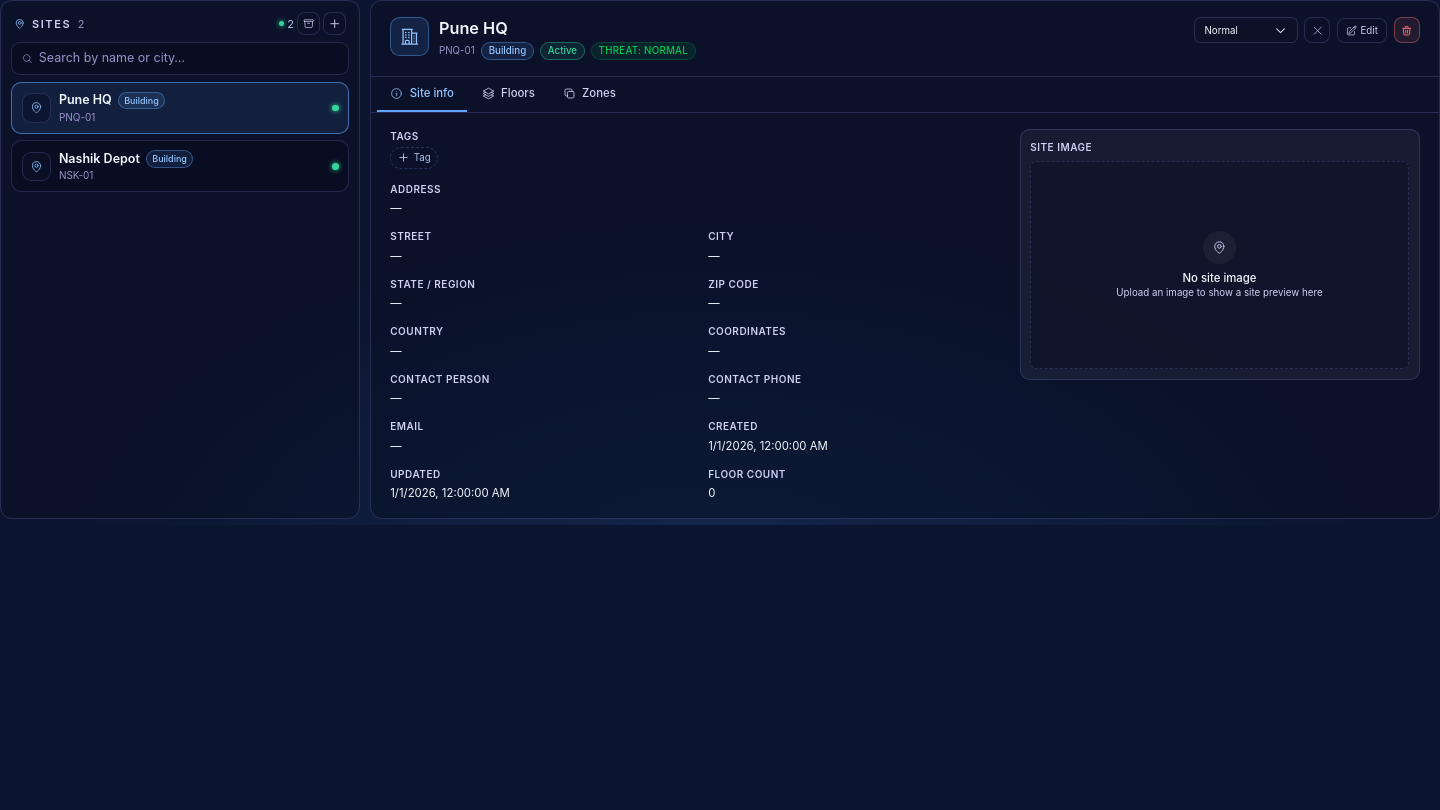
Scenario: the site form › refuses to create a nameless site before the network sees it
Step 1. Click the button named "new site" → (335, 24), box [323,12,346,35]
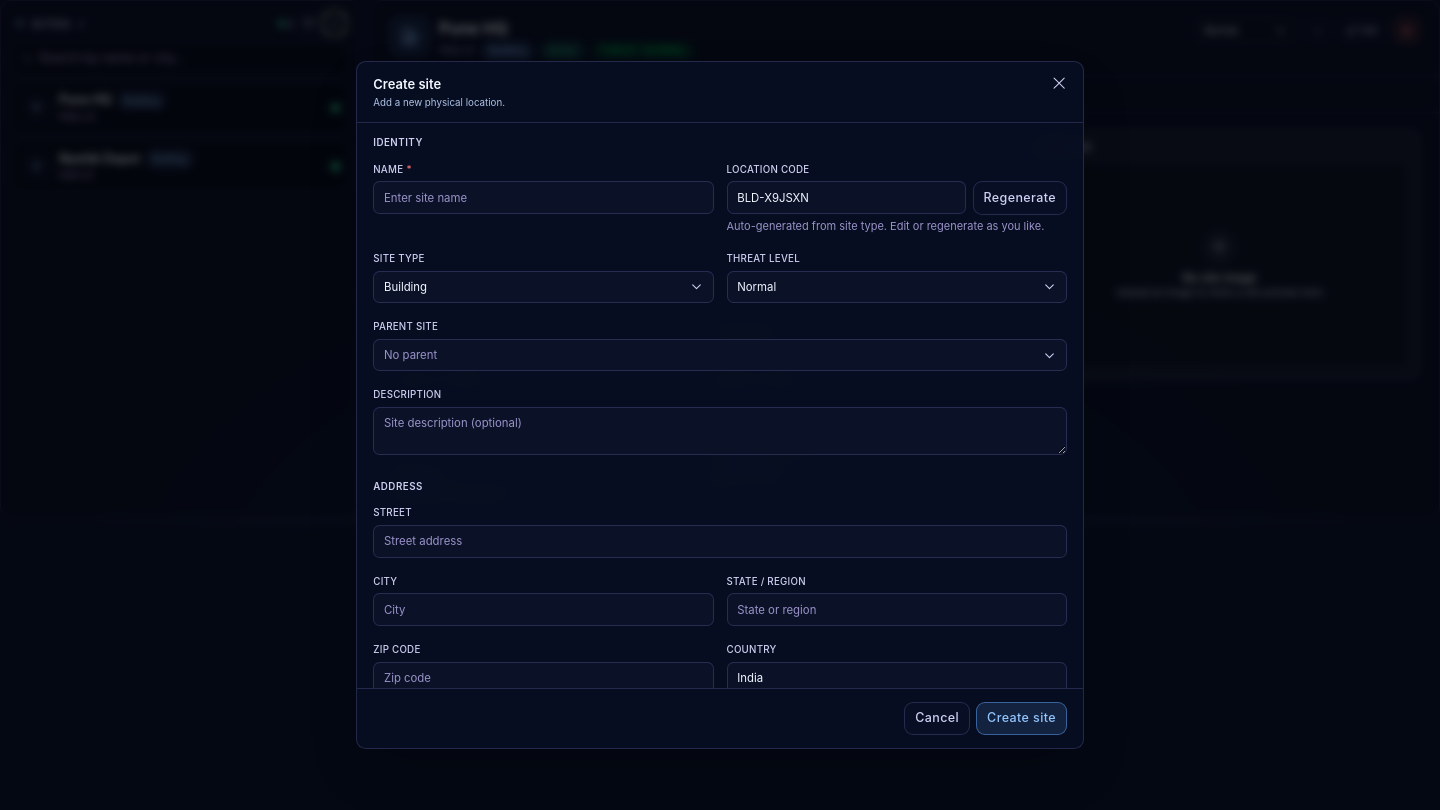
Step 2. Click the button "Create site" → (1022, 718), box [976,702,1067,735]
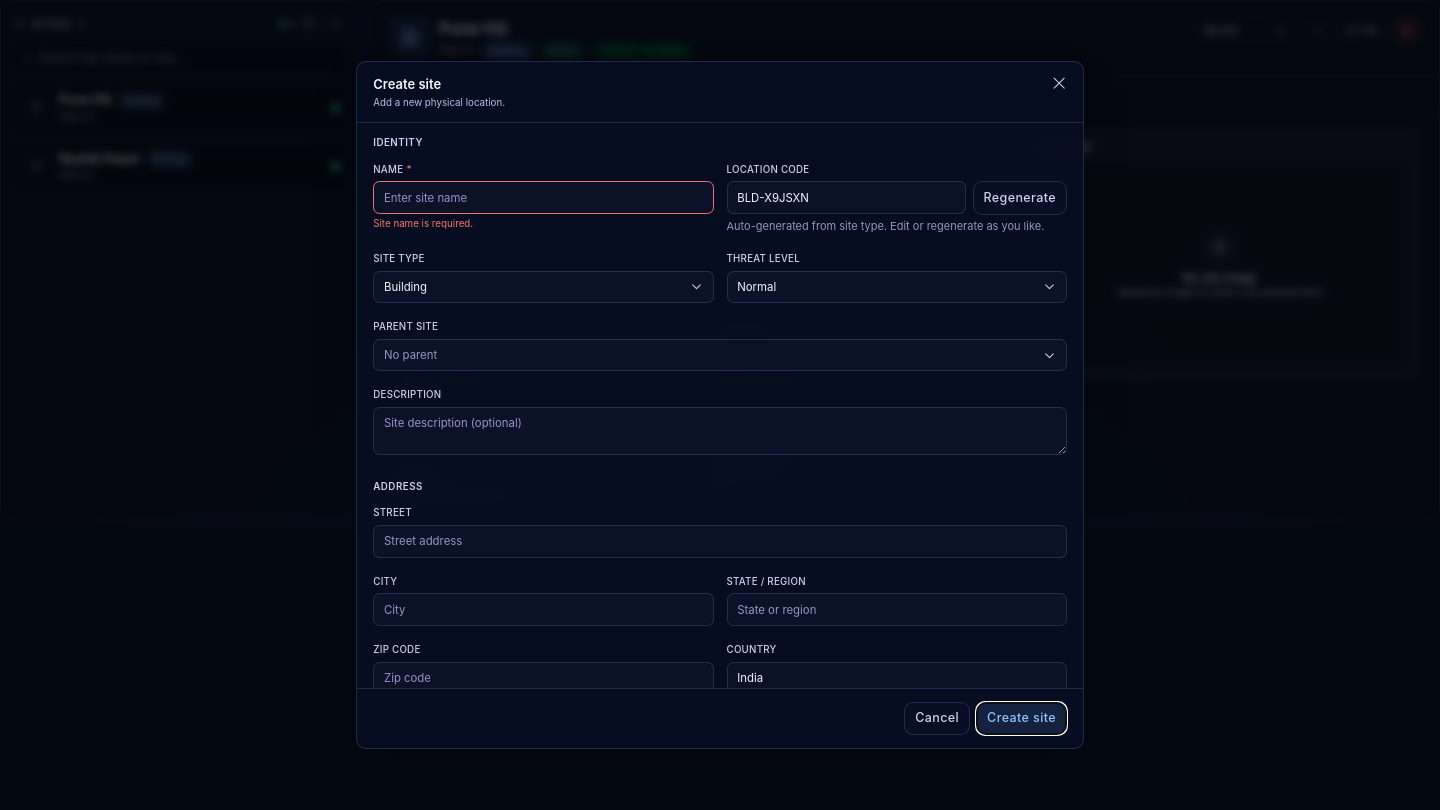
Result: the text "Site name is required." is shown at [373,218,473,229]
